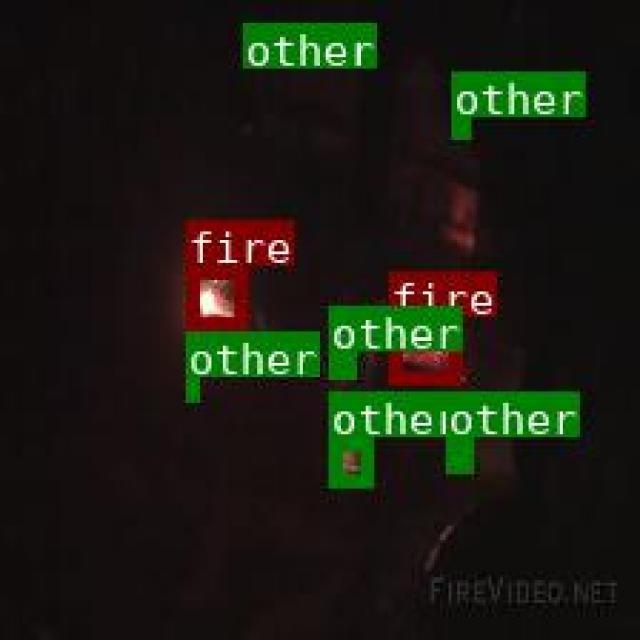fire: (388, 316, 460, 380), (186, 263, 245, 328)
